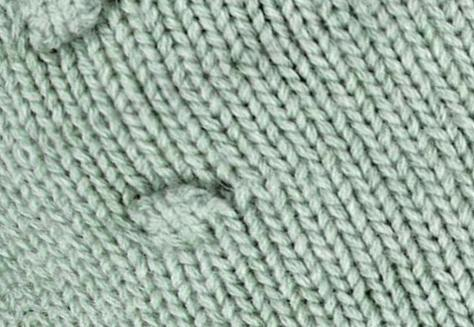knot: (124, 180, 241, 259), (25, 2, 115, 58)
